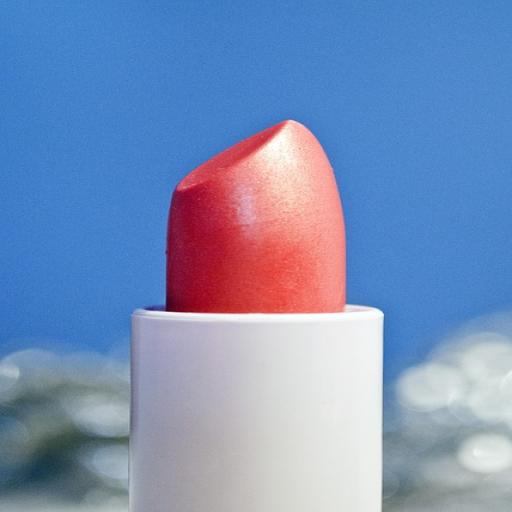lipstick: (131, 121, 382, 511)
